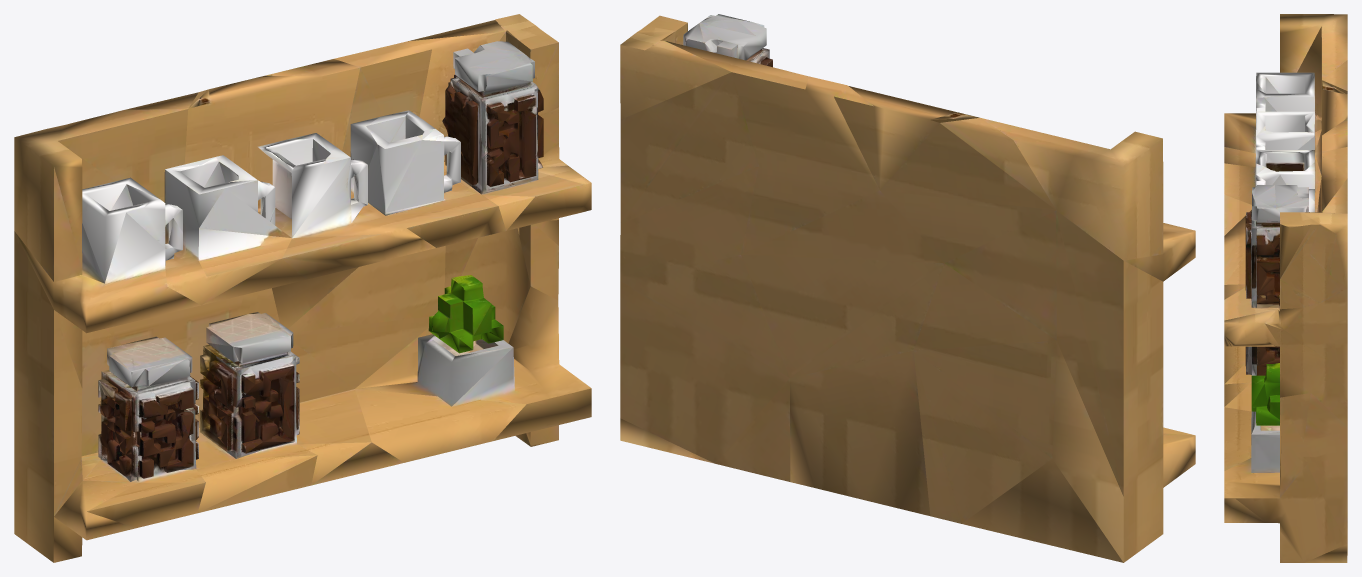
The model's file is cafe_shelf.glb.
The picture shows the model from 3 angles, left to right: view 1: azimuth 30°, elevation 25°; view 2: azimuth 150°, elevation 25°; view 3: azimuth 270°, elevation 25°; orthographic projection. The views are drawn at different scales.
Bounding box in the file's own units: 2 × 1.5 × 0.4961.
1 material, 1 textured.
